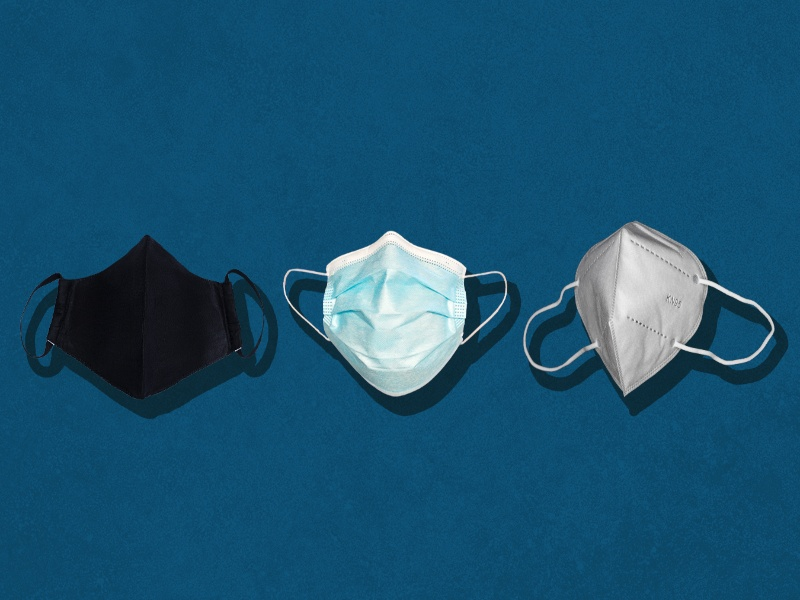mask: (44, 234, 247, 401), (320, 230, 471, 398), (572, 219, 708, 398)
